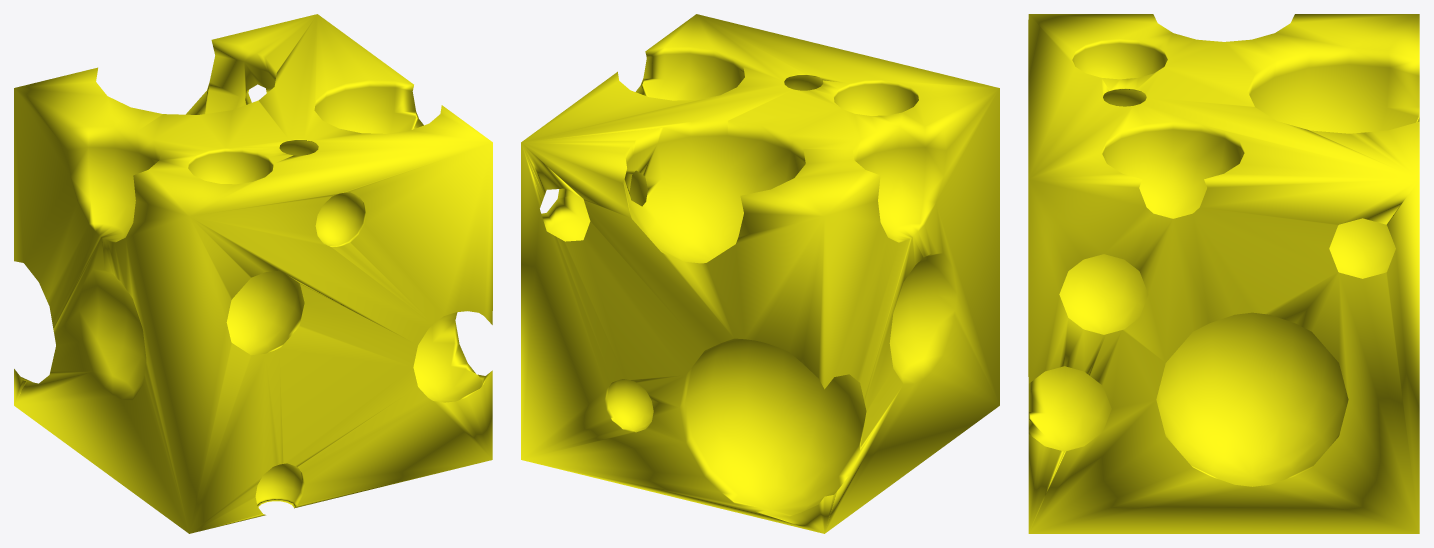
Rendered from queijo.fbx.
The picture shows the model from 3 angles, left to right: view 1: azimuth 30°, elevation 25°; view 2: azimuth 150°, elevation 25°; view 3: azimuth 270°, elevation 25°; orthographic projection. The views are drawn at different scales.
Visible parts, largest first — view 1: queijo-meshlab; view 2: queijo-meshlab; view 3: queijo-meshlab.
Boxes of the visible parts, x1,y1,x2,y2 form: queijo-meshlab: (14, 14, 492, 533); queijo-meshlab: (521, 14, 999, 533); queijo-meshlab: (1028, 14, 1419, 533).
Bounding box in the file's own units: 108 × 108 × 108.
